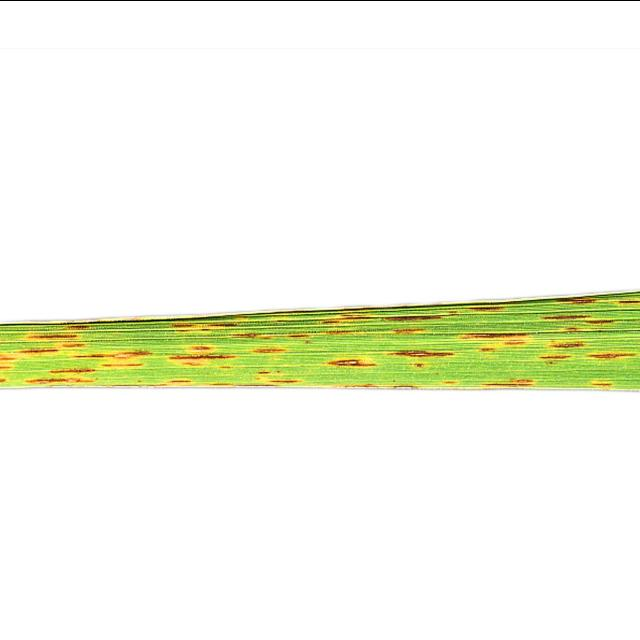Narrow brown: (0, 196, 640, 431)
